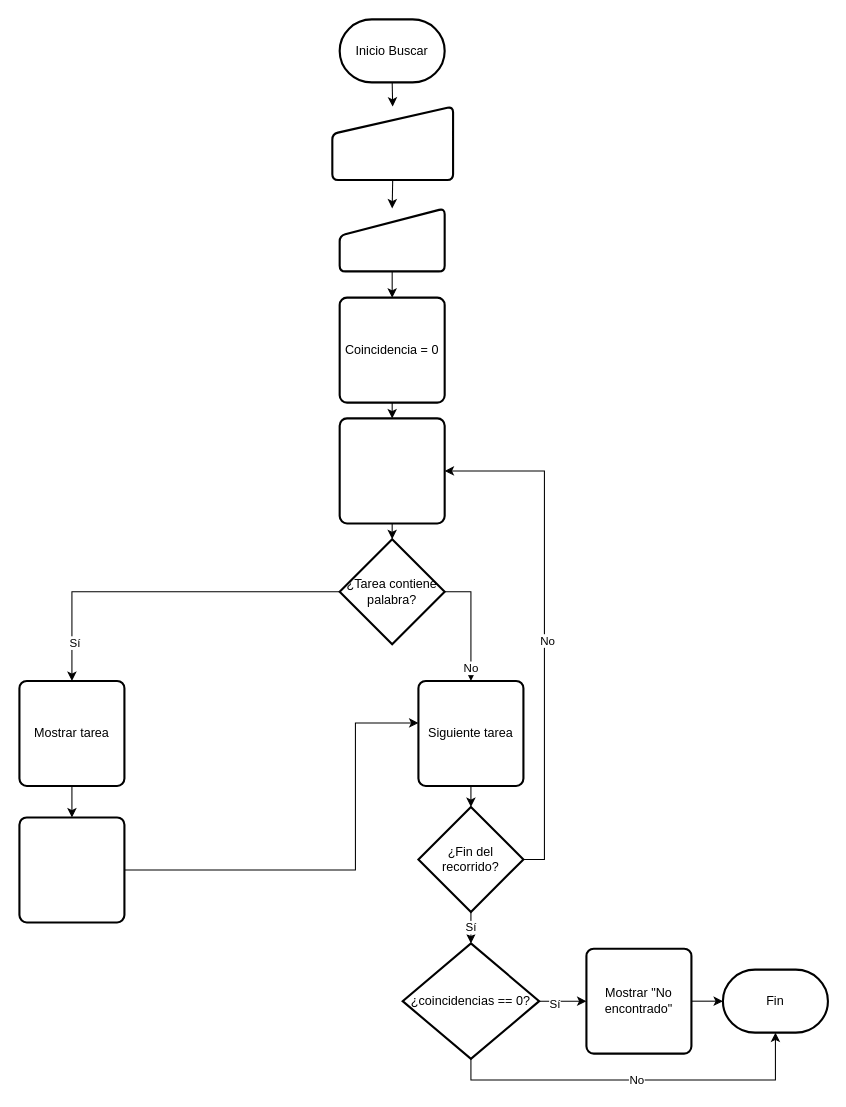
Some shapes in this 846 by 1107 pixel diagram are drawn without their labels. Here are the shapes that lost their labels. From the top down, the centre of each, then its label:
At point (392, 143): "Pedir Palabra Clave".
At point (391, 239): "Leer Palabra".
At point (391, 470): "Para Cada Tarea en Tareas".
At point (71, 869): "coincidencias += 1".
